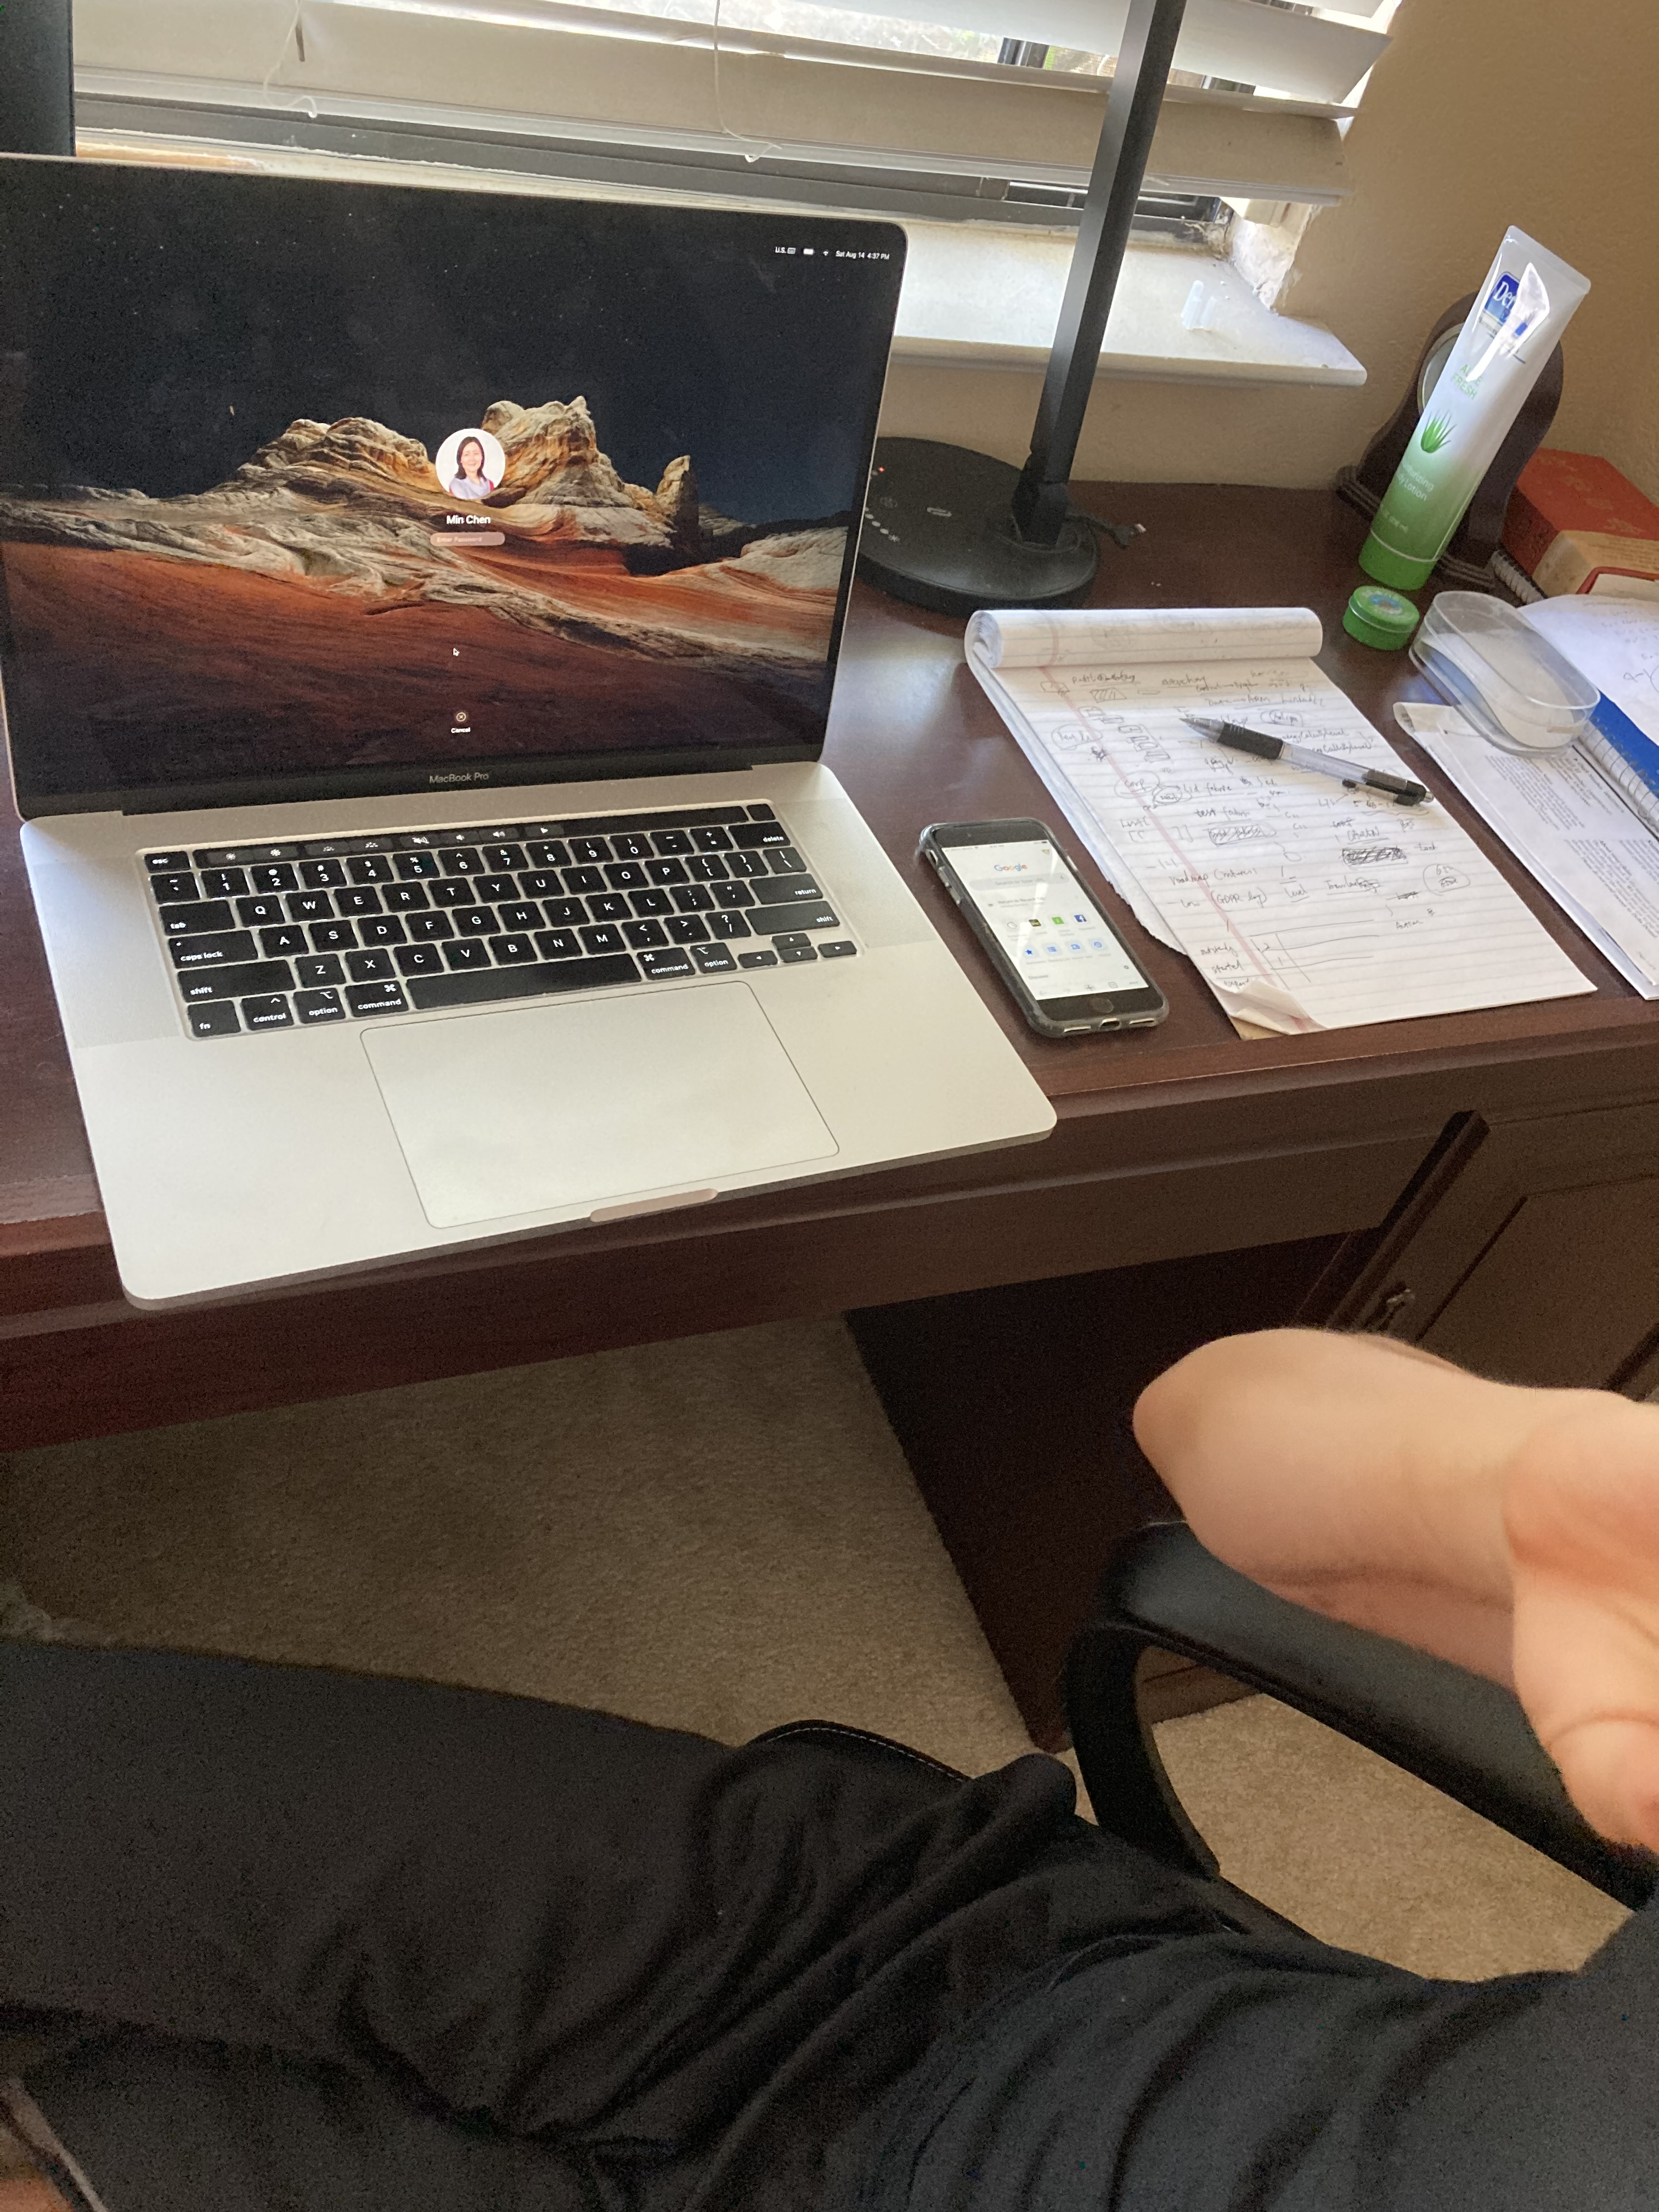Cell Phone: (922, 817, 1176, 1042)
